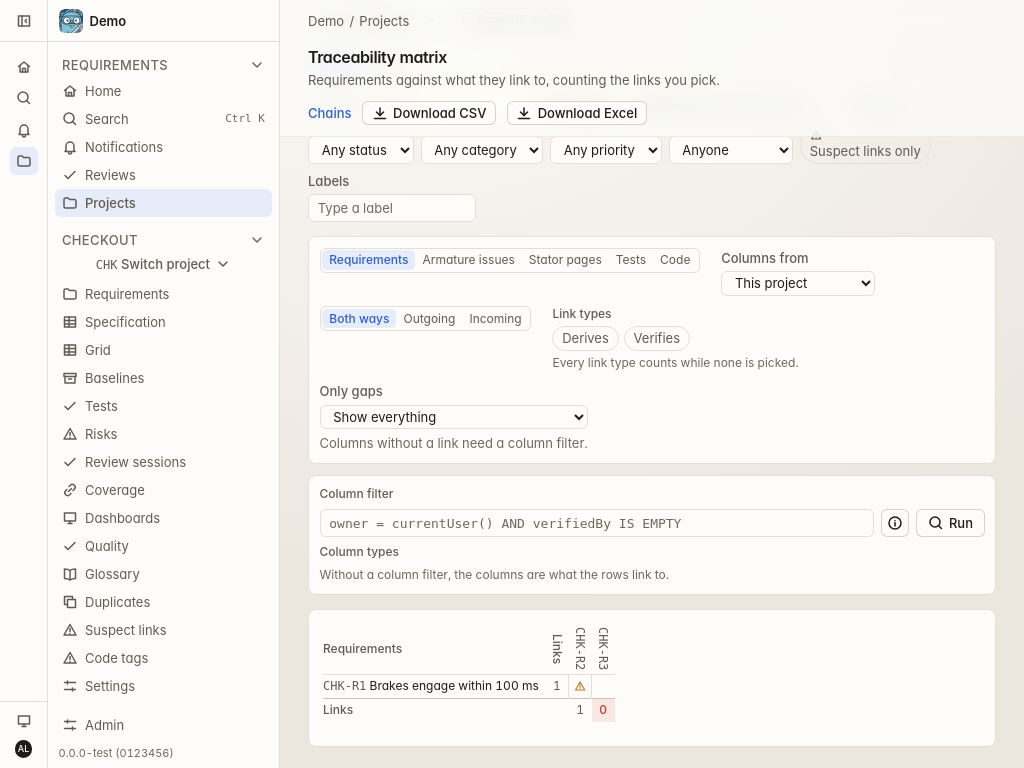
Test: a matrix cell › is read-only for a reader who may not link the row, and an empty cell is no button
(page scrolled)
Click the button named "CHK-R1 to CHK-R2: Derives (suspect)". click: [580, 686]
box: [569, 676, 591, 697]
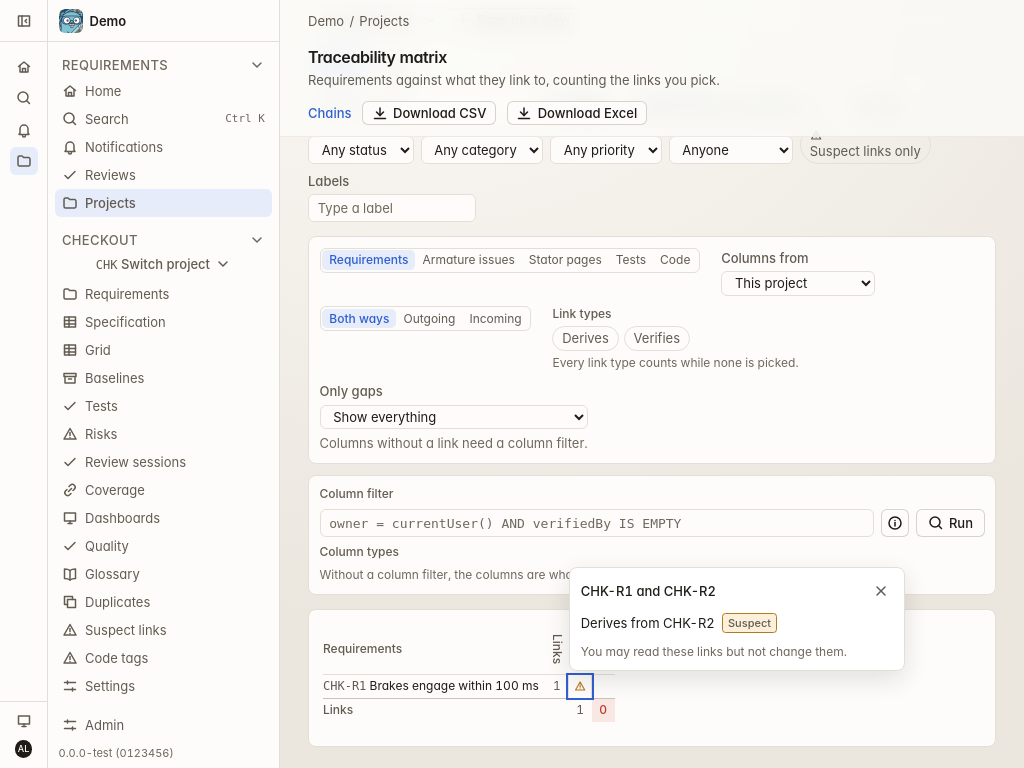
Now the text "Derives from CHK-R2" is shown, box [581, 613, 715, 633]
Now the text "You may read these links but not change them." is shown, box [581, 644, 894, 660]
